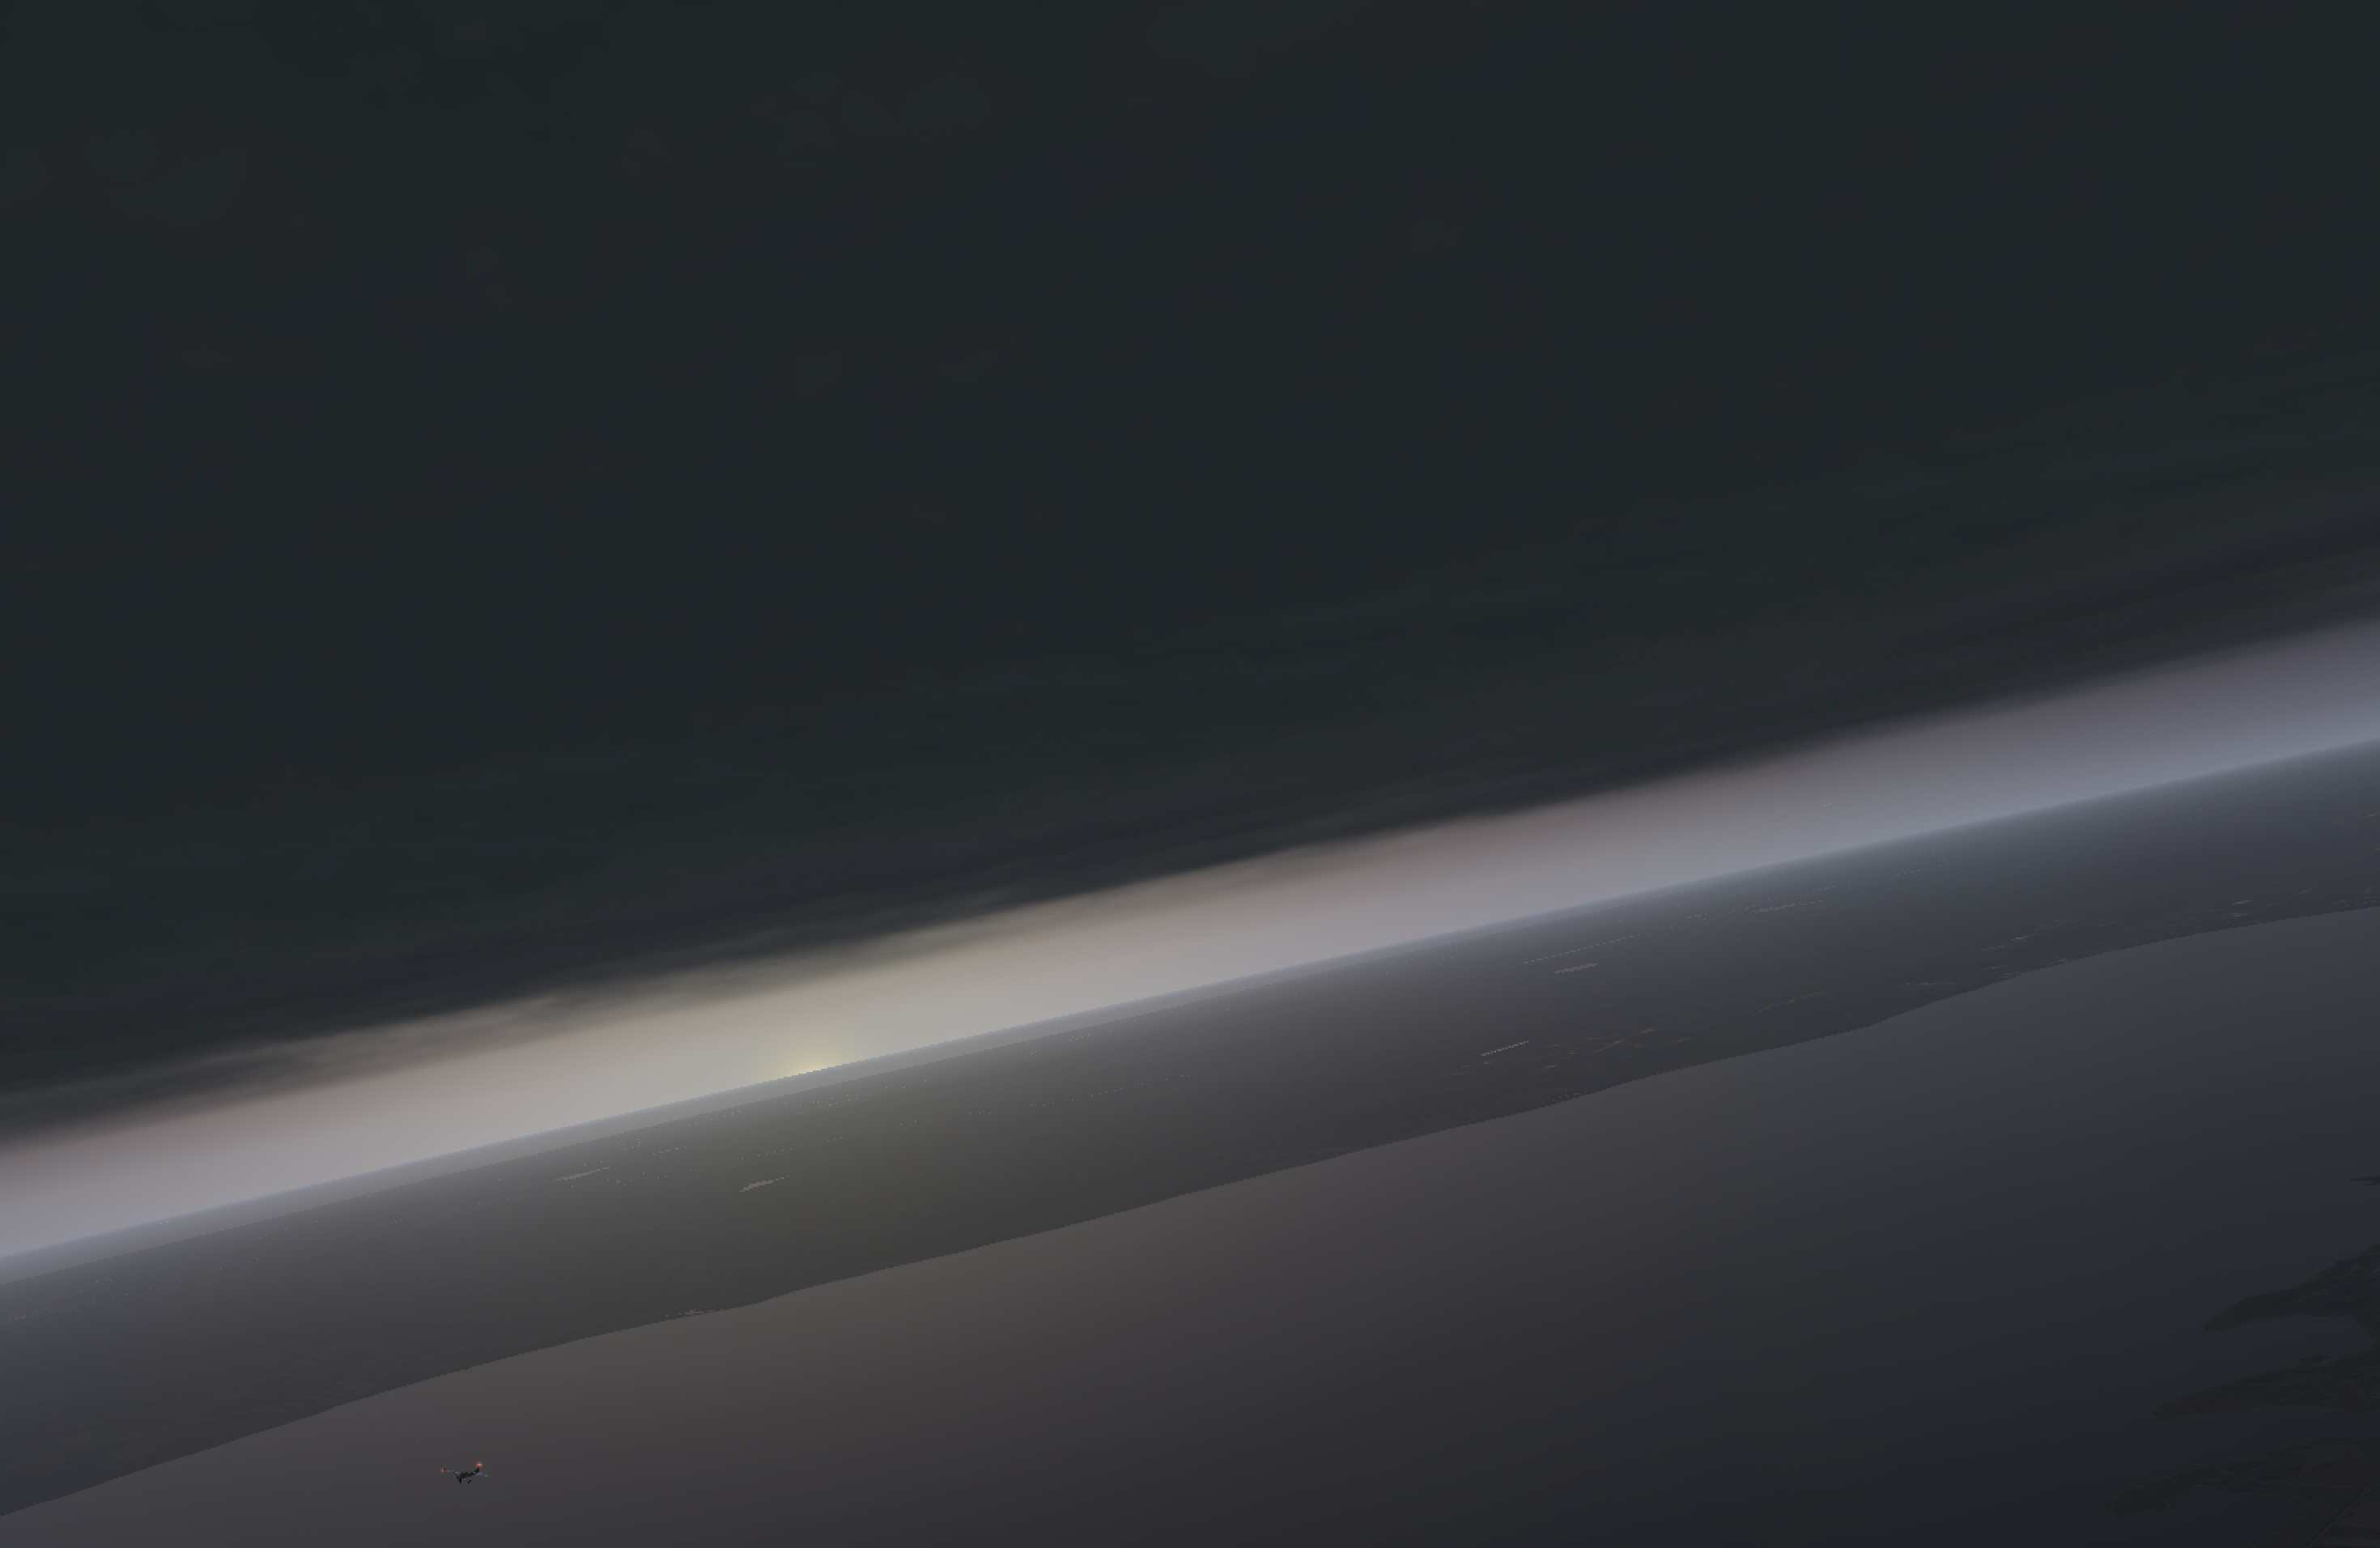aircraft: (448, 1470, 481, 1482)
